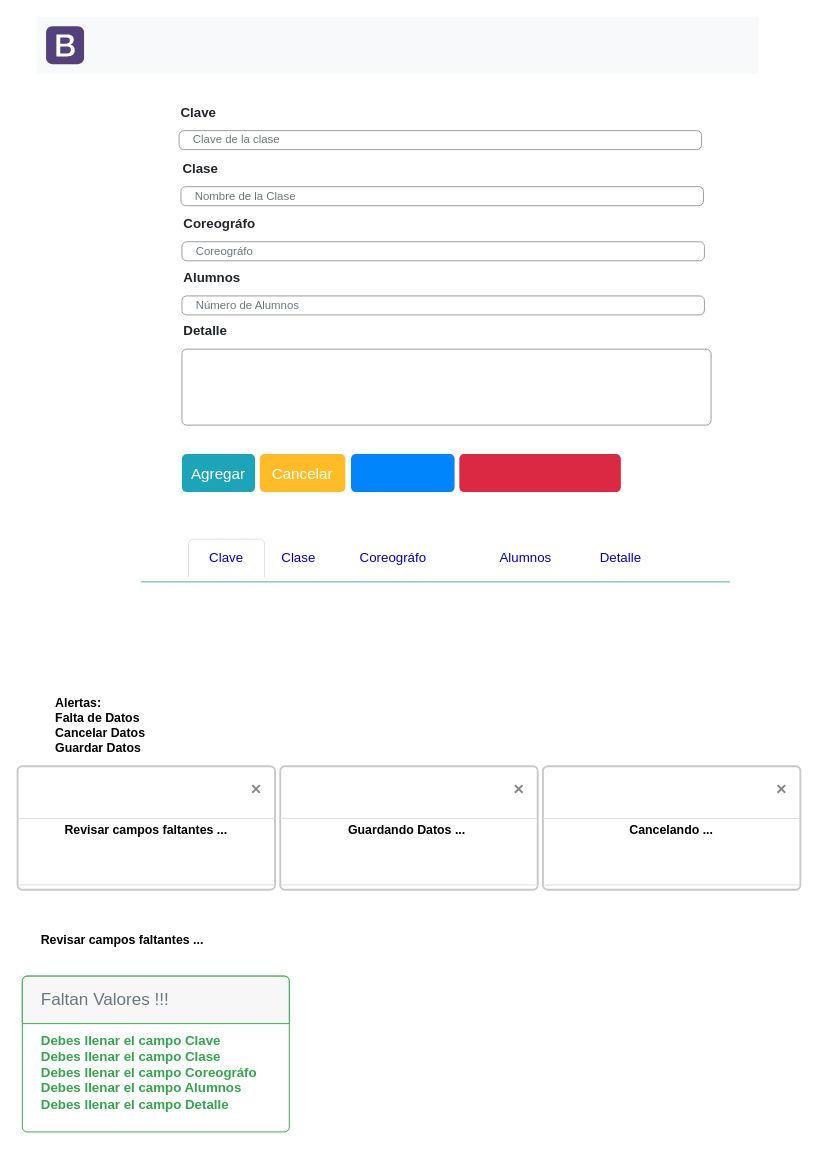
Some shapes in this 817 by 1149 pixel diagram are drawn without their labels. The box of each missing label's shape, as (x1, y1, x2, y2) in pixels:
Detalle de la clase: (181, 348, 711, 425)
Eliminar localStorage: (459, 454, 620, 492)
Mostrar Datos: (351, 454, 454, 492)
T-Dance Academy @tdanceacademy: (36, 16, 758, 73)
